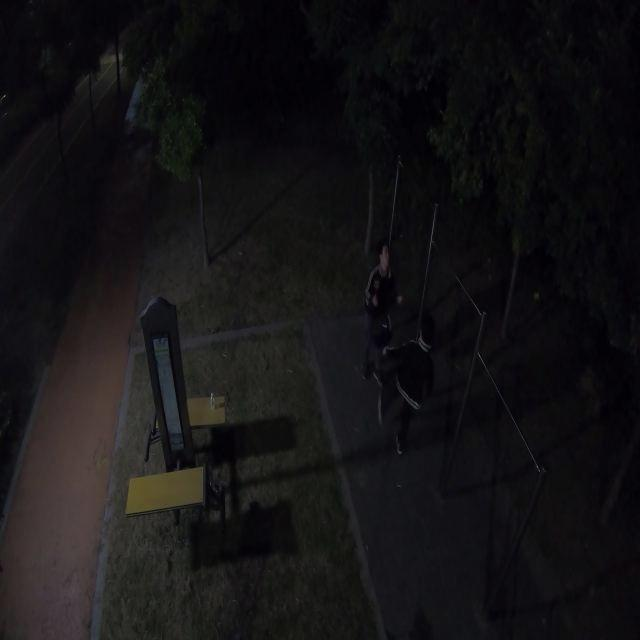fight: (362, 240, 437, 456)
